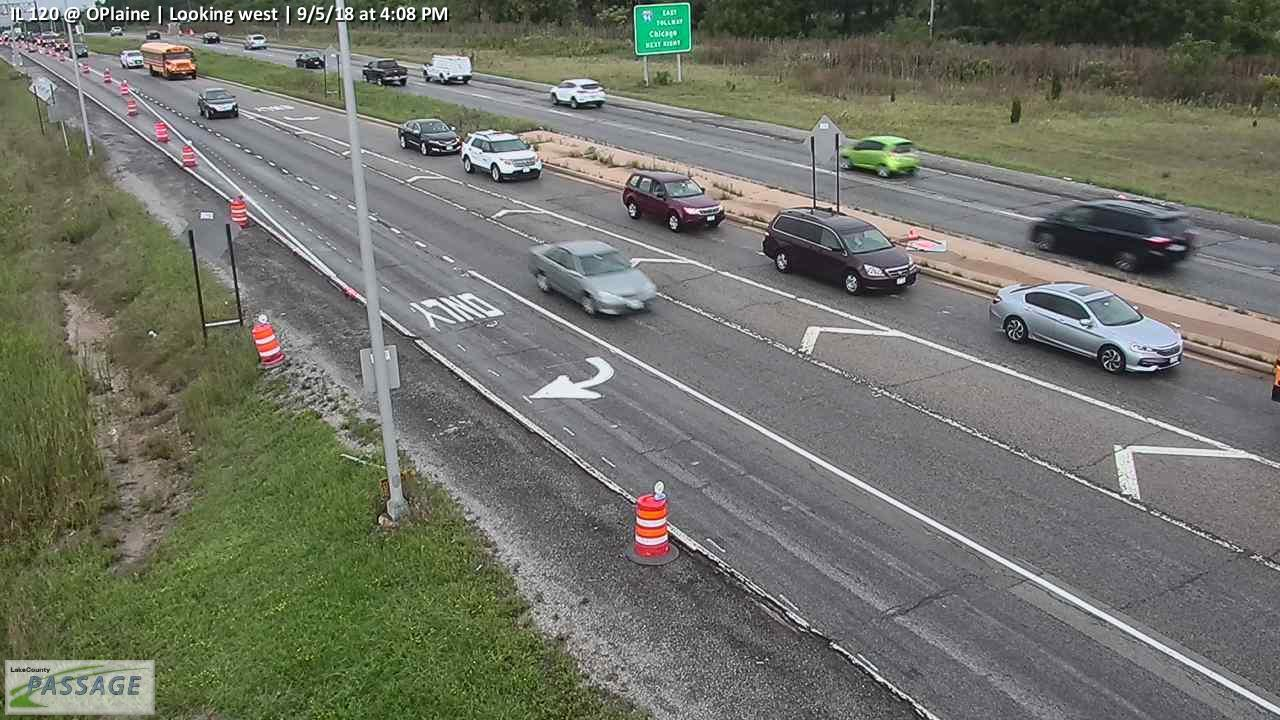Bus: (139, 40, 198, 80)
SUV: (760, 206, 919, 298), (1028, 198, 1195, 274), (622, 170, 725, 233), (460, 126, 544, 184), (837, 134, 921, 178), (550, 77, 606, 109), (242, 33, 269, 50), (109, 25, 124, 36)
Sedan: (988, 280, 1184, 375), (525, 237, 658, 317), (397, 117, 463, 156), (197, 87, 239, 119), (296, 49, 325, 69), (119, 48, 145, 67), (201, 31, 220, 44), (145, 29, 161, 39)
Truck: (421, 53, 473, 85), (360, 58, 409, 86)
